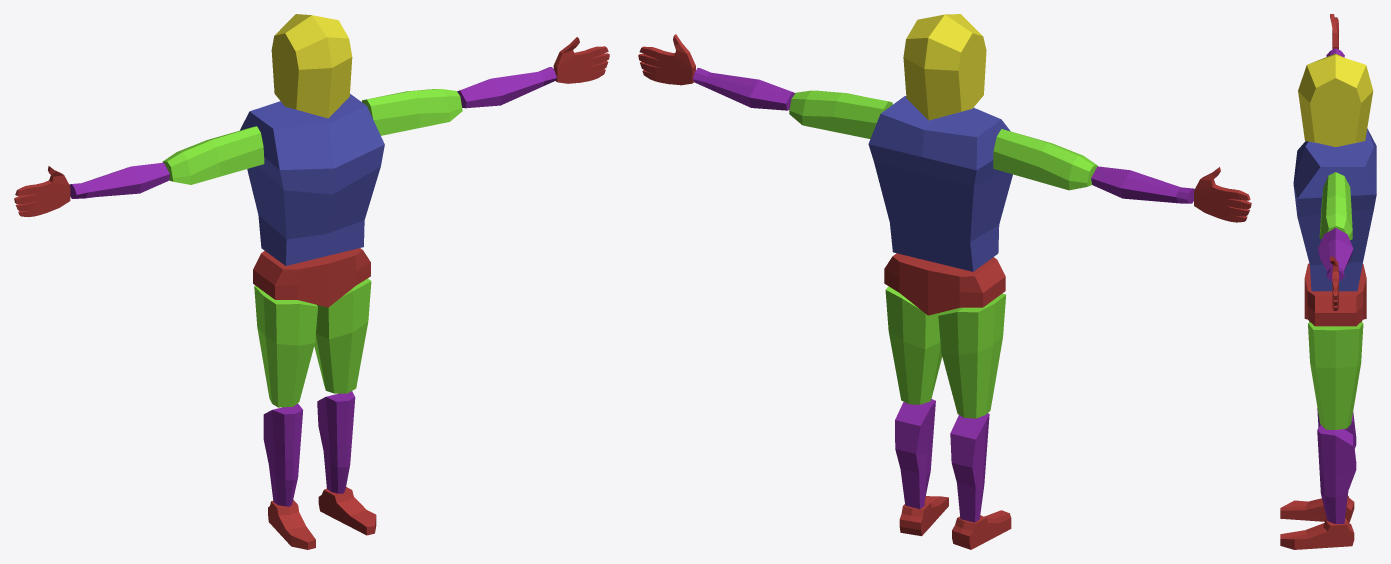
The model's file is 02_low-poly-human.fbx.
3 views of the same model, side by side, from view 1: azimuth 30°, elevation 25°; view 2: azimuth 150°, elevation 25°; view 3: azimuth 270°, elevation 25° (orthographic). The views are drawn at different scales.
Parts seen in each view (by area): view 1: Cube.005; view 2: Cube.005; view 3: Cube.005.
Boxes of the visible parts, x1,y1,x2,y2 form: Cube.005: (14, 14, 609, 549); Cube.005: (638, 14, 1251, 549); Cube.005: (1280, 14, 1376, 549).
Bounding box in the file's own units: 922 × 749 × 138.
